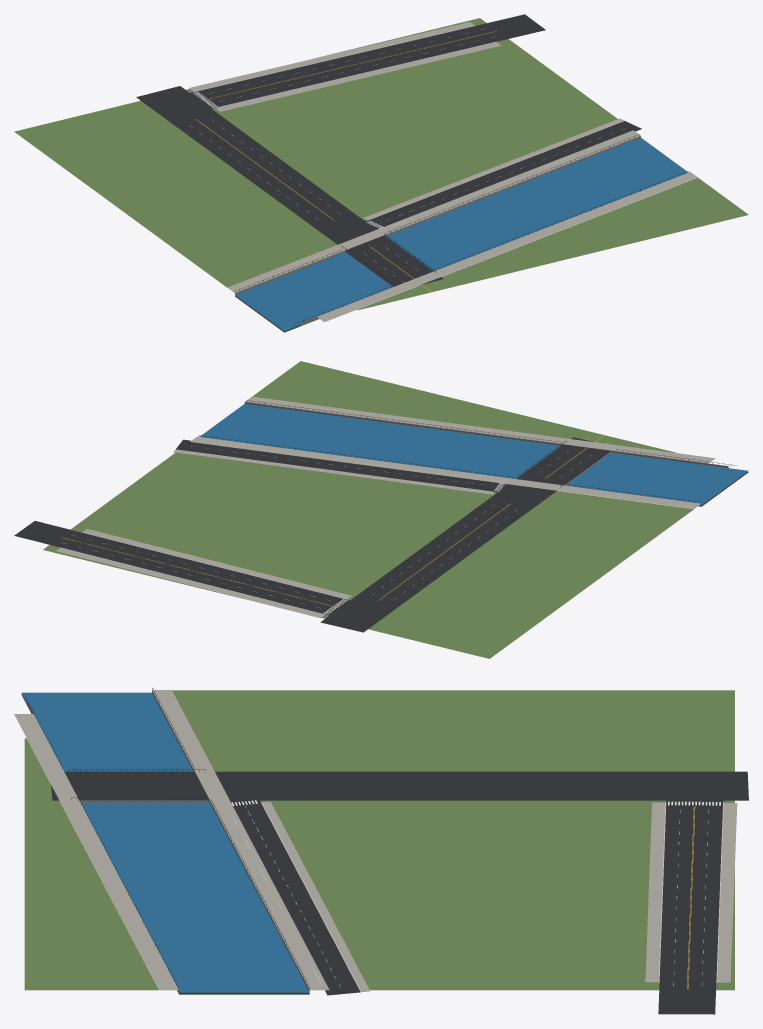
Rendered from Ground_0_2.fbx.
3 renders of one model, top to bottom at view 1: azimuth 30°, elevation 25°; view 2: azimuth 150°, elevation 25°; view 3: azimuth 270°, elevation 25°, orthographic. The views are drawn at different scales.
Parts seen in each view (by area): view 1: Ground_0_2; view 2: Ground_0_2; view 3: Ground_0_2.
Part boxes in pixels (x1=…): Ground_0_2: x1=14, y1=14, x2=748, y2=332; Ground_0_2: x1=14, y1=361, x2=748, y2=658; Ground_0_2: x1=14, y1=687, x2=748, y2=1014.
Size of the model in its own units: 270 by 2.7 by 259.
